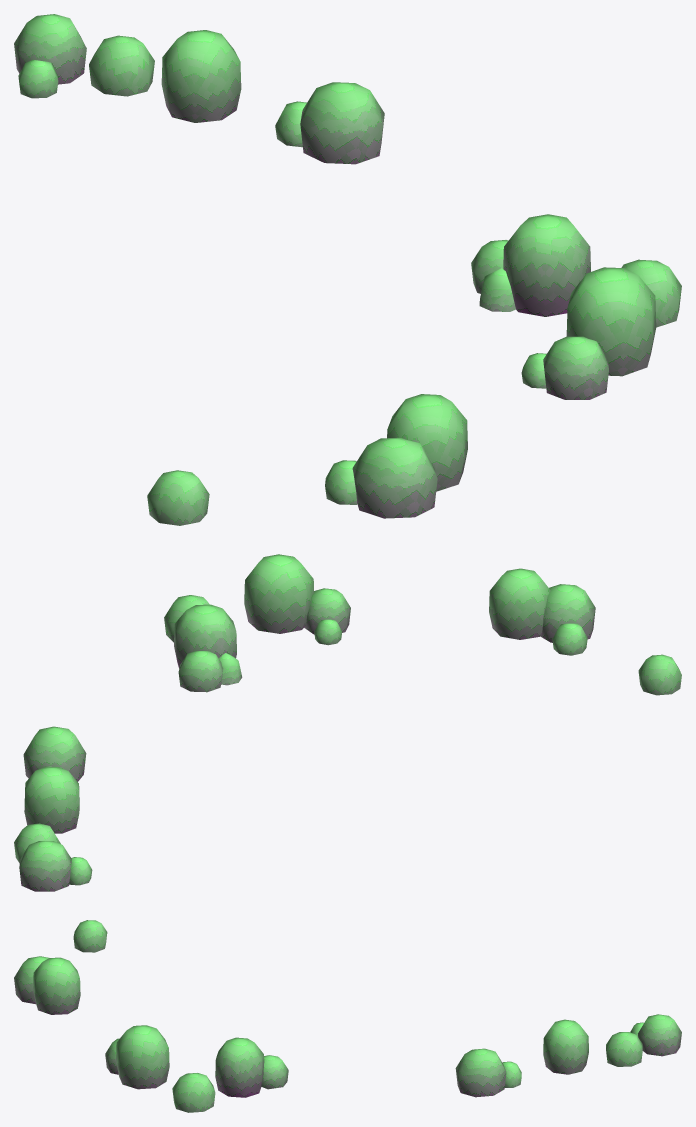
The model's file is plants2.glb.
3 renders of one model, top to bottom at view 1: azimuth 30°, elevation 25°; view 2: azimuth 150°, elevation 25°; view 3: azimuth 270°, elevation 25°, orthographic. The views are drawn at different scales.
Parts seen in each view (by area): view 1: Plants.007, Plants.008; view 2: Plants.007, Plants.008; view 3: Plants.007, Plants.008.
Part boxes in pixels (box(x1,y1,x2,y2)): Plants.007: box(147, 214, 681, 525); Plants.008: box(14, 14, 384, 164); Plants.007: box(164, 554, 681, 695); Plants.008: box(14, 726, 92, 891); Plants.007: box(14, 920, 288, 1112); Plants.008: box(455, 1014, 681, 1097).
Size of the model in its own units: 2.74 by 0.4071 by 4.42.
1 material, 1 textured.
